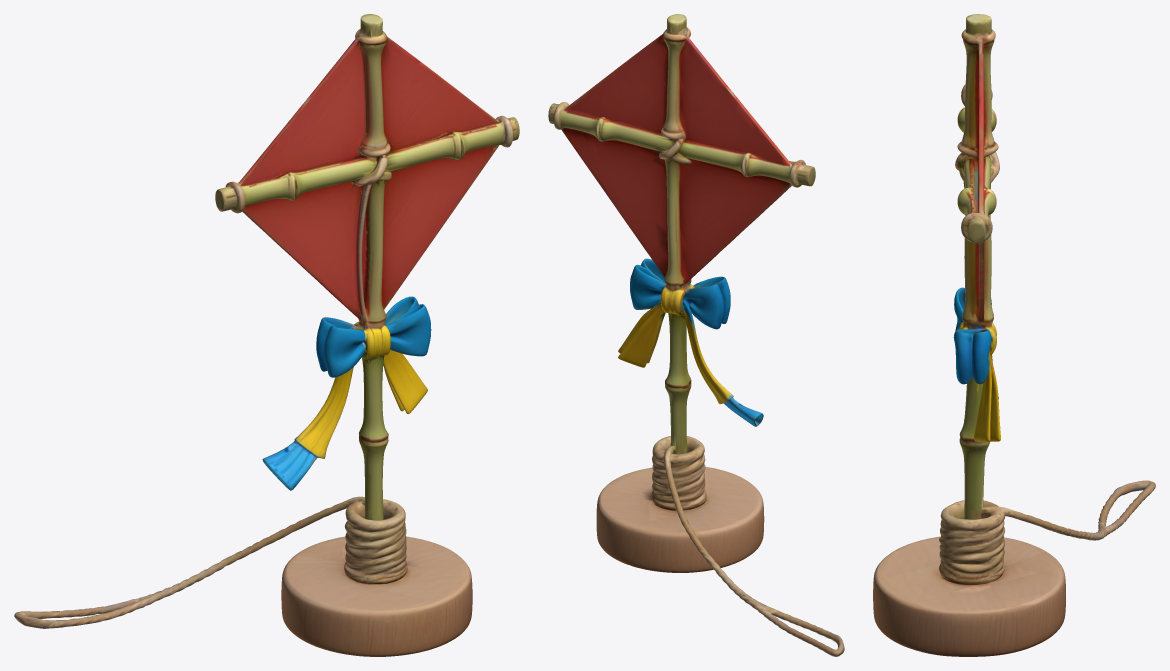
File: kite.glb
3 renders of one model, left to right at view 1: azimuth 30°, elevation 25°; view 2: azimuth 150°, elevation 25°; view 3: azimuth 270°, elevation 25°, orthographic. The views are drawn at different scales.
Parts seen in each view (by area): view 1: node_0; view 2: node_0; view 3: node_0.
Boxes of the visible parts, left/top/right/bottom form: node_0: left=14, top=14, right=519, bottom=656; node_0: left=548, top=14, right=844, bottom=656; node_0: left=873, top=14, right=1155, bottom=656.
Size of the model in its own units: 0.6734 by 0.9301 by 0.3949.
1 material, 1 textured.
